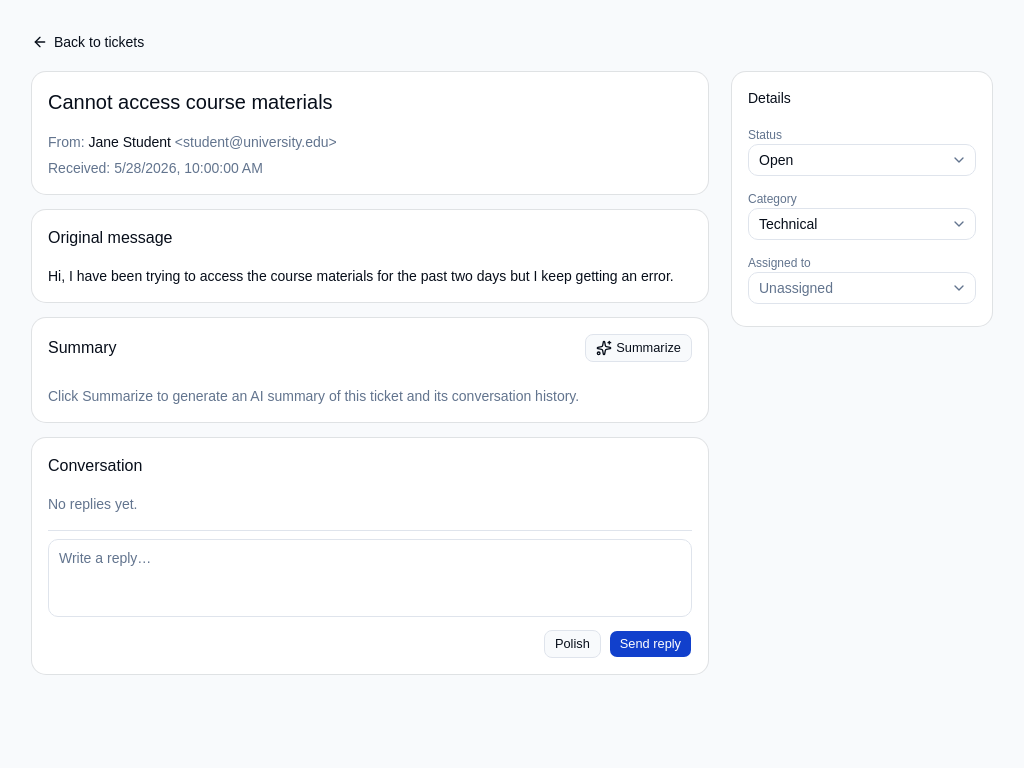
Test: TicketDetailPage › agent assignment › select is disabled while mutation is in flight
expect the text "Unassigned" is shown: met, box top-left (759, 280), bottom-right (833, 296)
# Third trigger: Status, Category, Assigned to
What coordinates should you click on to do the following:
click the dropdown labelled "Unassigned ▼"
I would click on:
 (862, 288)
Its box is top-left (748, 272), bottom-right (976, 304).
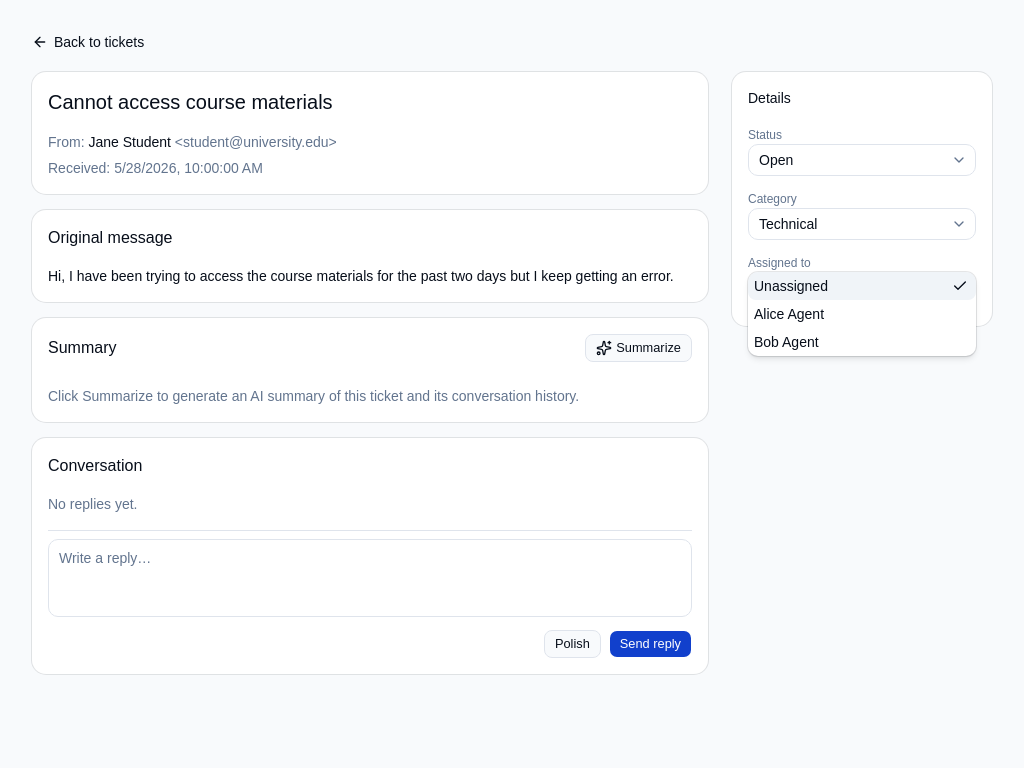
What coordinates should you click on to do the following:
click the option "Alice Agent"
I would click on:
 (789, 314)
Its box is top-left (754, 306), bottom-right (824, 322).
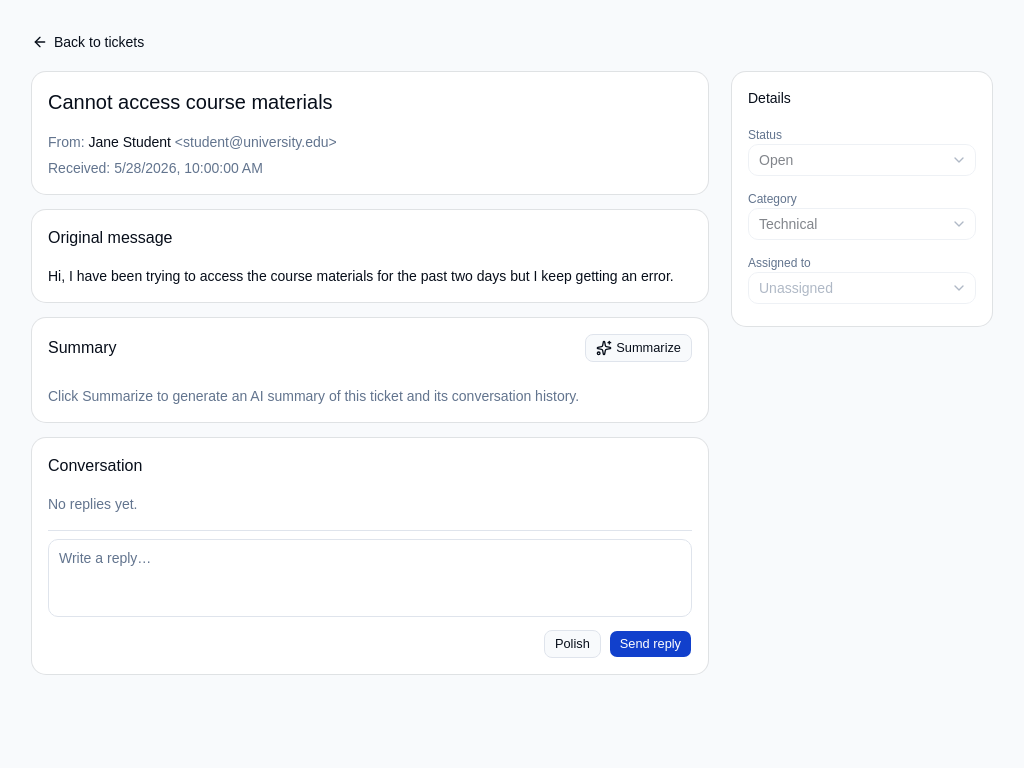
expect the dropdown labelled "Unassigned ▼" is disabled: met, box top-left (748, 272), bottom-right (976, 304)
